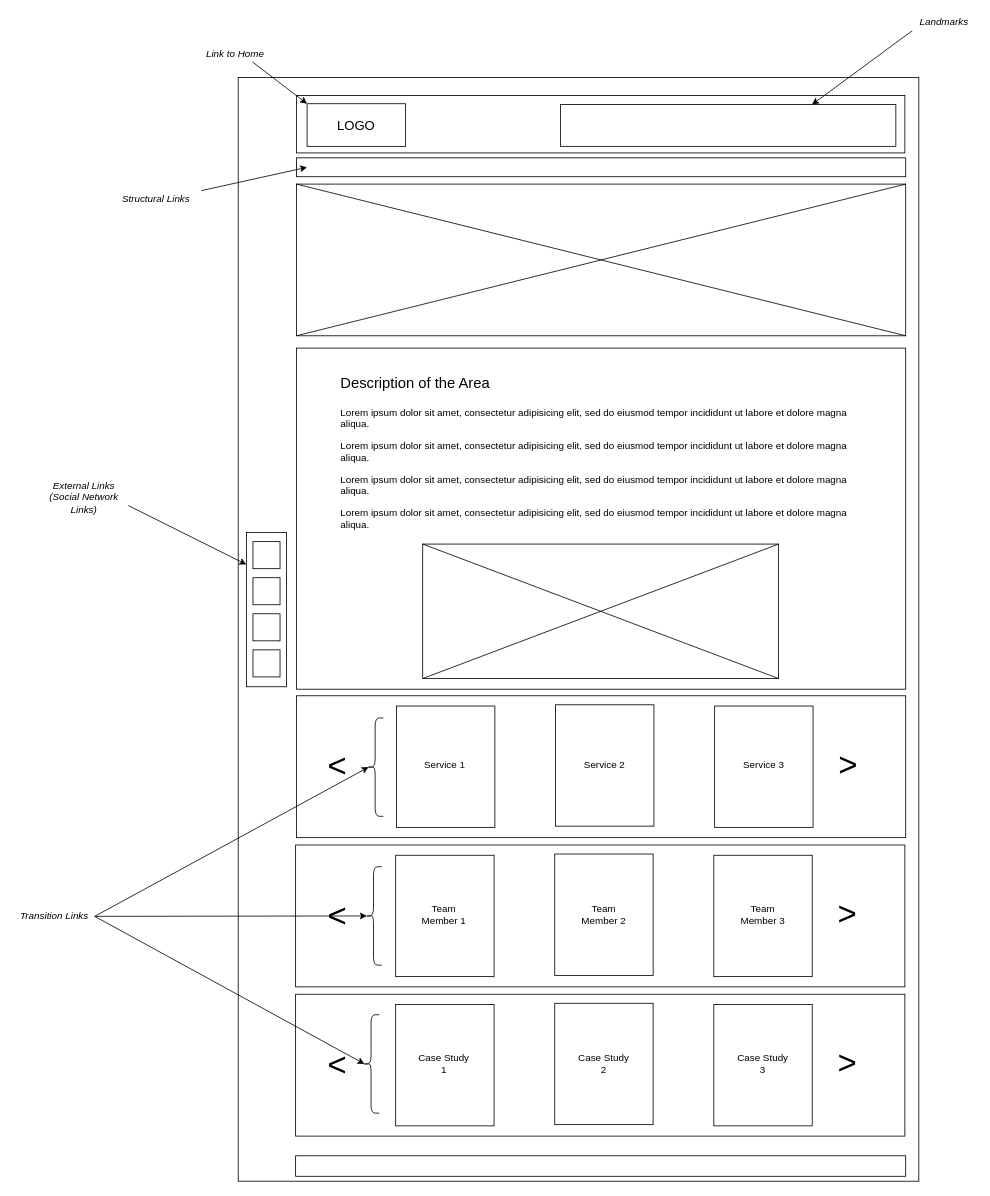
The diagram is 990 pixels wide and 1196 high, and some of its shapes have lost their labels. Each missing label, with the box of its shape:
About Us Services Industries Our Team Contact Us: (560, 104, 896, 146)
Anchor Links: (296, 157, 906, 177)
AREA NAME: (296, 183, 906, 336)
Footer: (295, 1155, 906, 1176)
Possible Image: (422, 543, 779, 679)
